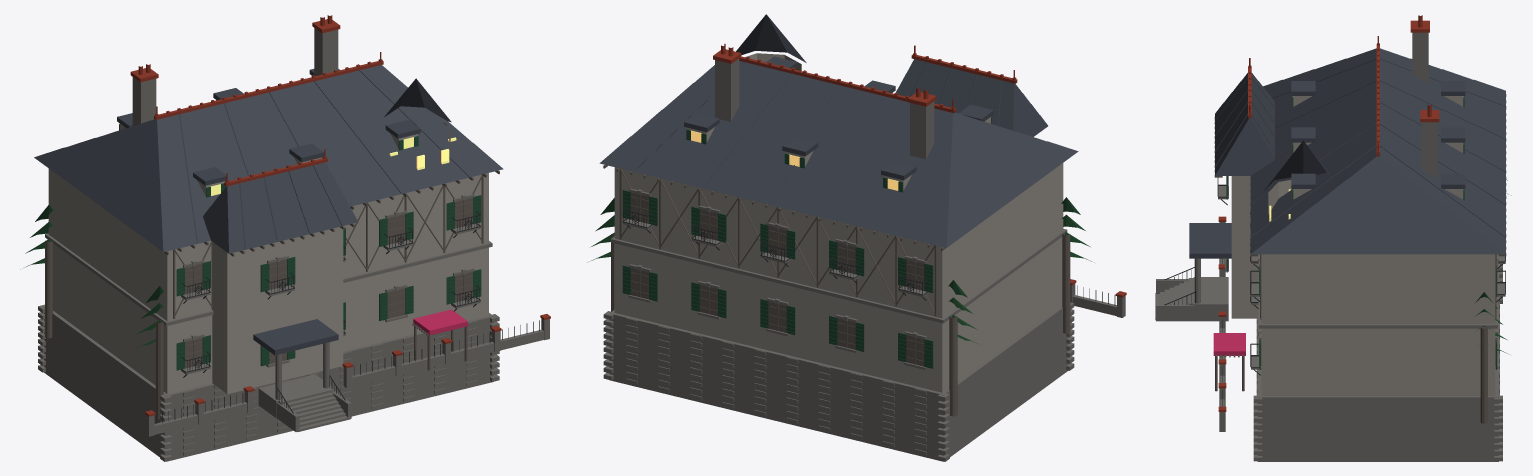
File: fv_pv_01_phan_vien_sinh_hoc_stone_monastery_main.glb
3 renders of one model, left to right at view 1: azimuth 30°, elevation 25°; view 2: azimuth 150°, elevation 25°; view 3: azimuth 270°, elevation 25°, orthographic. The views are drawn at different scales.
Visible parts, largest first — view 1: marseille_corrugated_roof_tiles, stucco_facade_and_dormers, granite_foundation_and_stairs, colombage_timber_and_eaves, pine_green_louvered_shutters, ridge_cresting_and_chimneys, wrought_iron_balconies_3d, bougainvillea_pergola_clusters, pine_trees_and_garden_hedges, warm_night_windows_ffb86c; view 2: marseille_corrugated_roof_tiles, stucco_facade_and_dormers, granite_foundation_and_stairs, colombage_timber_and_eaves, pine_green_louvered_shutters, ridge_cresting_and_chimneys, wrought_iron_balconies_3d, pine_trees_and_garden_hedges; view 3: marseille_corrugated_roof_tiles, stucco_facade_and_dormers, granite_foundation_and_stairs, colombage_timber_and_eaves, ridge_cresting_and_chimneys, bougainvillea_pergola_clusters, wrought_iron_balconies_3d, pine_green_louvered_shutters.
Boxes of the visible parts, x1,y1,x2,y2 form: marseille_corrugated_roof_tiles: [34, 65, 503, 355]; stucco_facade_and_dormers: [48, 100, 488, 394]; granite_foundation_and_stairs: [38, 28, 549, 461]; colombage_timber_and_eaves: [45, 170, 499, 419]; pine_green_louvered_shutters: [119, 124, 481, 370]; ridge_cresting_and_chimneys: [130, 15, 550, 416]; wrought_iron_balconies_3d: [156, 211, 539, 424]; bougainvillea_pergola_clusters: [413, 309, 467, 335]; pine_trees_and_garden_hedges: [20, 205, 164, 348]; warm_night_windows_ffb86c: [210, 137, 456, 195]; marseille_corrugated_roof_tiles: [599, 14, 1078, 247]; stucco_facade_and_dormers: [614, 53, 1063, 392]; granite_foundation_and_stairs: [603, 58, 1125, 461]; colombage_timber_and_eaves: [603, 165, 1070, 416]; pine_green_louvered_shutters: [622, 117, 991, 368]; ridge_cresting_and_chimneys: [713, 44, 1126, 297]; wrought_iron_balconies_3d: [623, 206, 1115, 305]; pine_trees_and_garden_hedges: [589, 197, 1091, 344]; marseille_corrugated_roof_tiles: [1189, 48, 1506, 258]; stucco_facade_and_dormers: [1231, 96, 1495, 395]; granite_foundation_and_stairs: [1155, 32, 1505, 461]; colombage_timber_and_eaves: [1214, 94, 1506, 423]; ridge_cresting_and_chimneys: [1218, 15, 1439, 411]; bougainvillea_pergola_clusters: [1213, 333, 1245, 355]; wrought_iron_balconies_3d: [1164, 178, 1505, 406]; pine_green_louvered_shutters: [1226, 96, 1497, 369].
Bounding box in the file's own units: 30.52 × 23.33 × 24.26.
